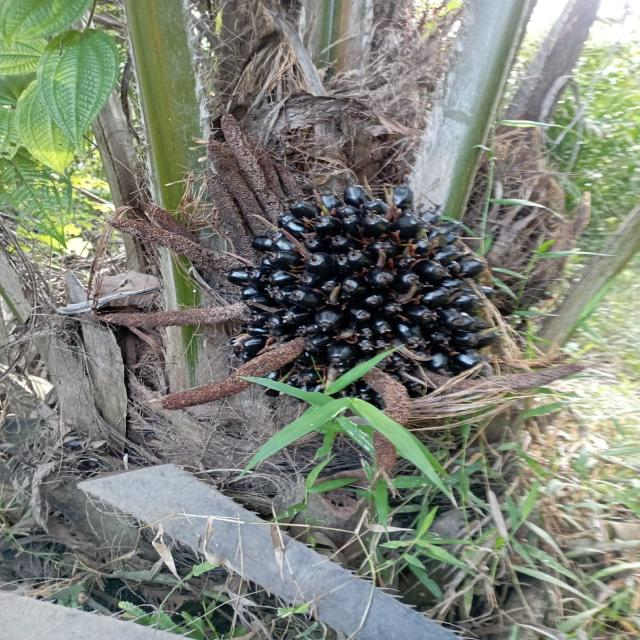fraksi 00: (203, 156, 522, 428)
